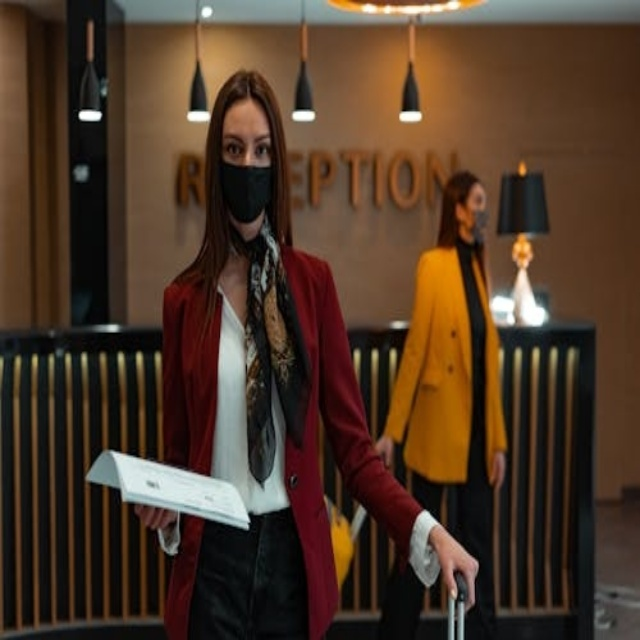Mascara: (219, 160, 273, 222), (470, 207, 489, 245)
Sin_gafas: (219, 129, 275, 165)
Sin_guantes: (429, 523, 484, 609), (131, 499, 178, 536)
